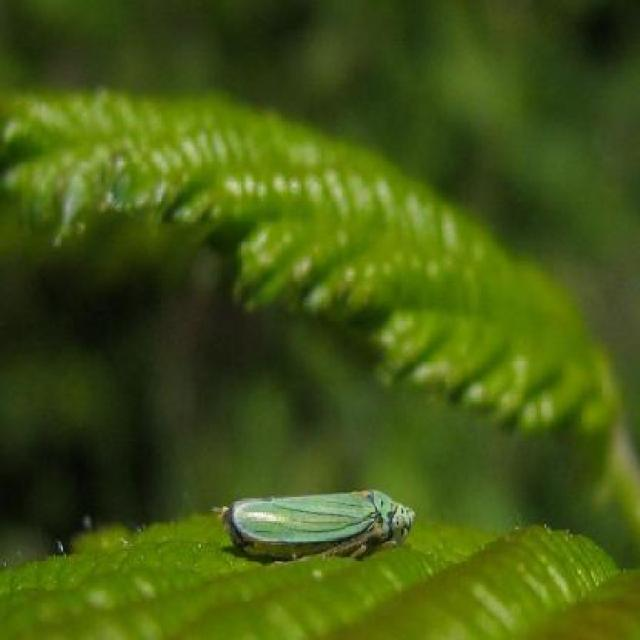green-leafhopper: (230, 492, 408, 556)
